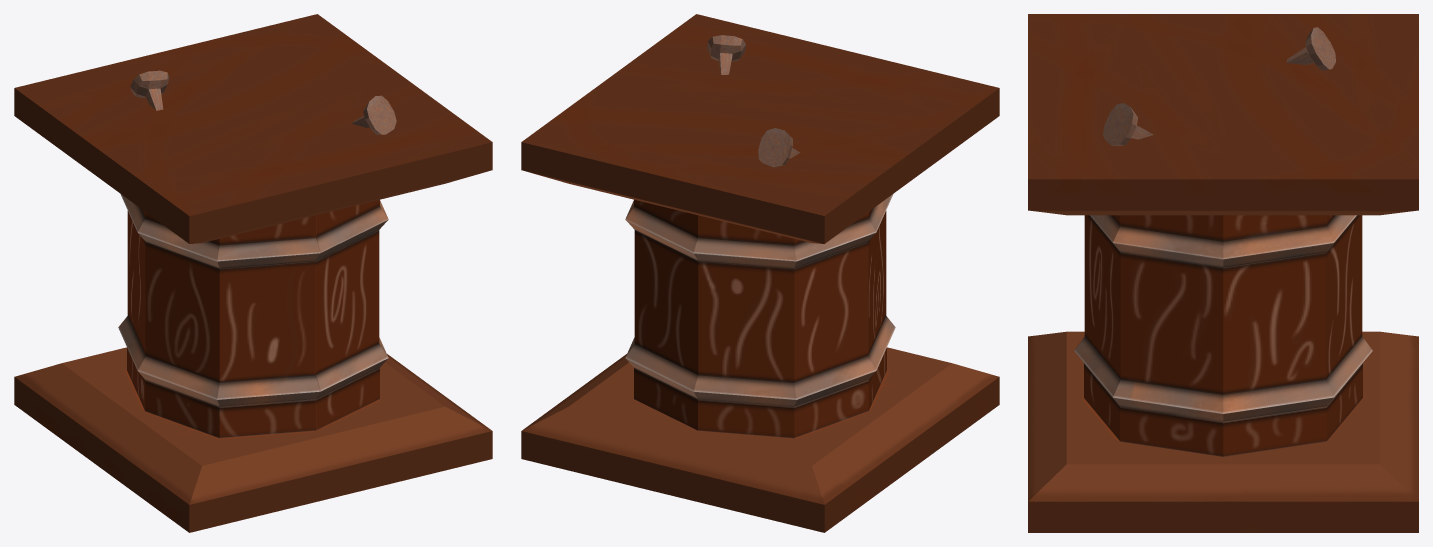
File: Pilar.fbx
The picture shows the model from 3 angles, left to right: view 1: azimuth 30°, elevation 25°; view 2: azimuth 150°, elevation 25°; view 3: azimuth 270°, elevation 25°; orthographic projection. The views are drawn at different scales.
Visible parts, largest first — view 1: Pilar; view 2: Pilar; view 3: Pilar.
Part boxes in pixels (x1,y1,x2,y2): Pilar: (14, 14, 492, 532); Pilar: (521, 14, 999, 532); Pilar: (1028, 14, 1418, 532).
Size of the model in its own units: 202 by 221 by 202.
